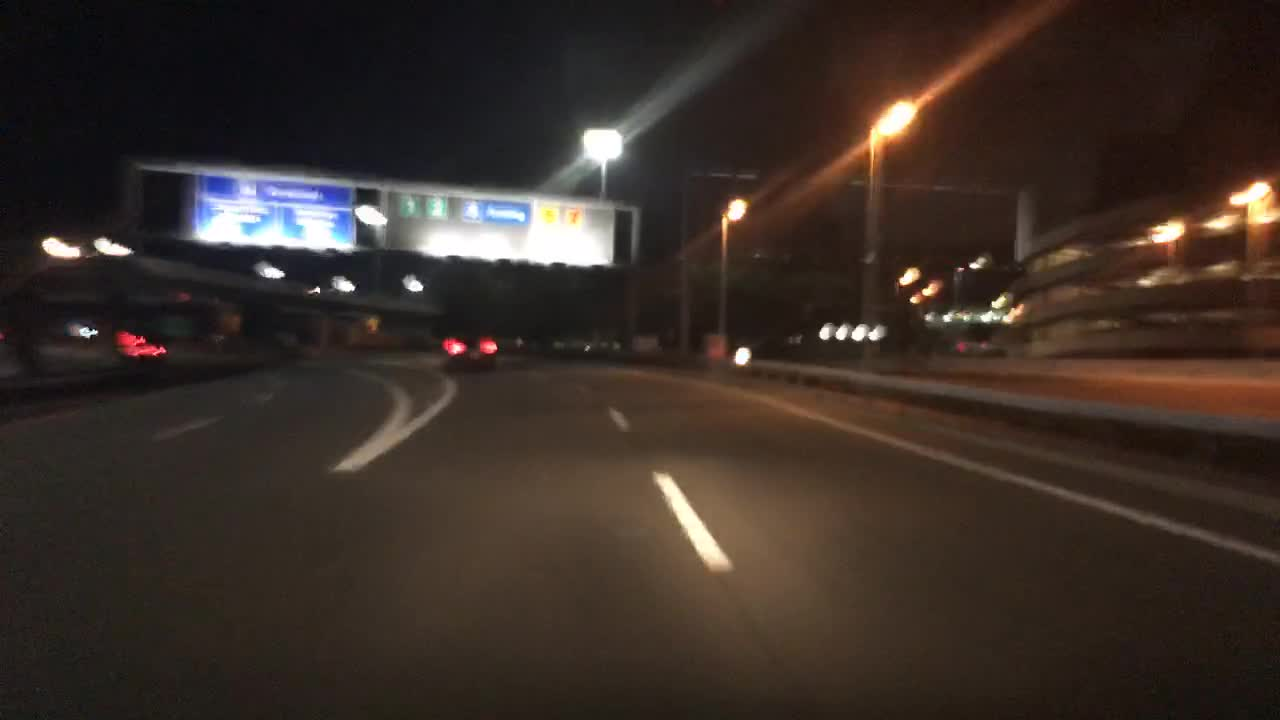car: (0, 313, 166, 373), (437, 321, 501, 373), (940, 325, 1002, 356)
traffic sign: (191, 173, 358, 250), (458, 198, 530, 224), (425, 195, 450, 220), (396, 195, 418, 219), (537, 204, 561, 226), (567, 207, 585, 226)
